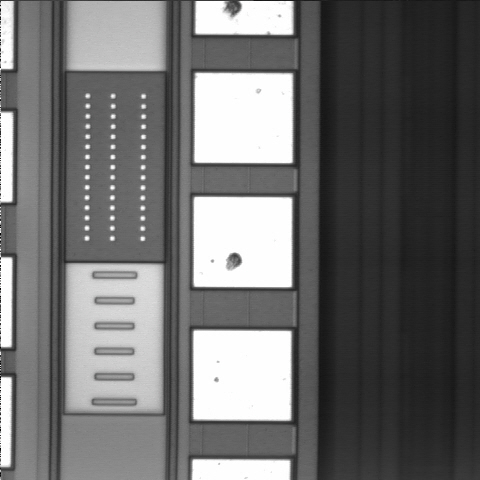pad: (193, 330, 292, 421), (194, 73, 293, 163), (193, 197, 292, 287)
